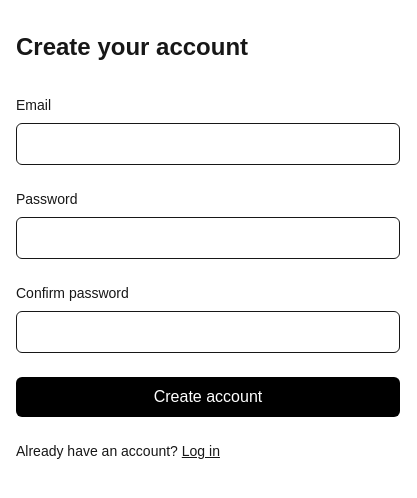
it: Registration page › shows a safe error when account creation fails
Type "sean@example.com" into the field labelled "Email". click: x=208, y=144
box: [16,123,400,165]
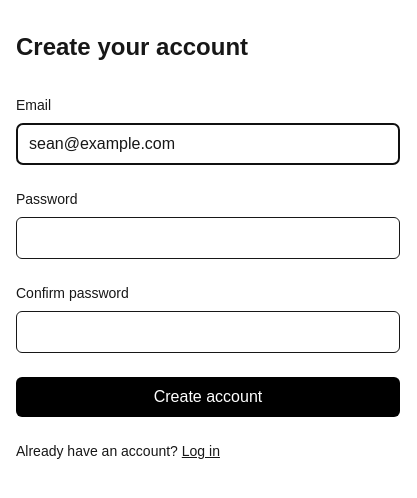
Type "secret-password" into the password field labelled "Password". click: x=208, y=238
box: [16,217,400,259]
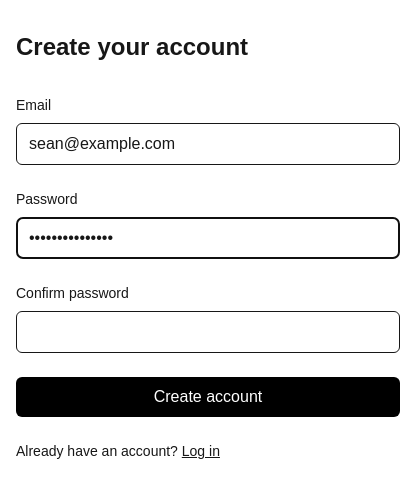
Type "secret-password" into the password field labelled "Confirm password". click: x=208, y=332
box: [16,311,400,353]
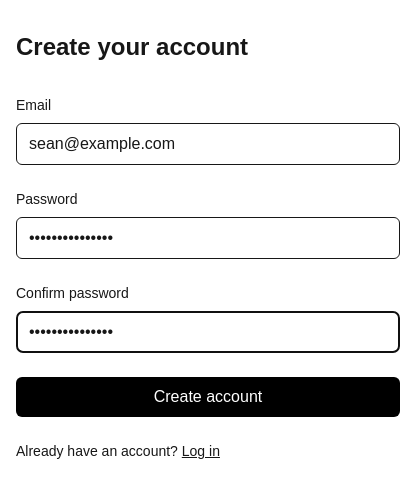
Click the button "Create account". click: x=208, y=397
box: [16,377,400,417]
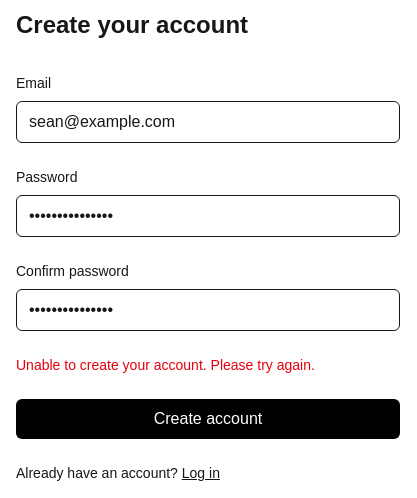
Expected: the message reads "Unable to create your account. Please try again.", [16,357,315,373]
